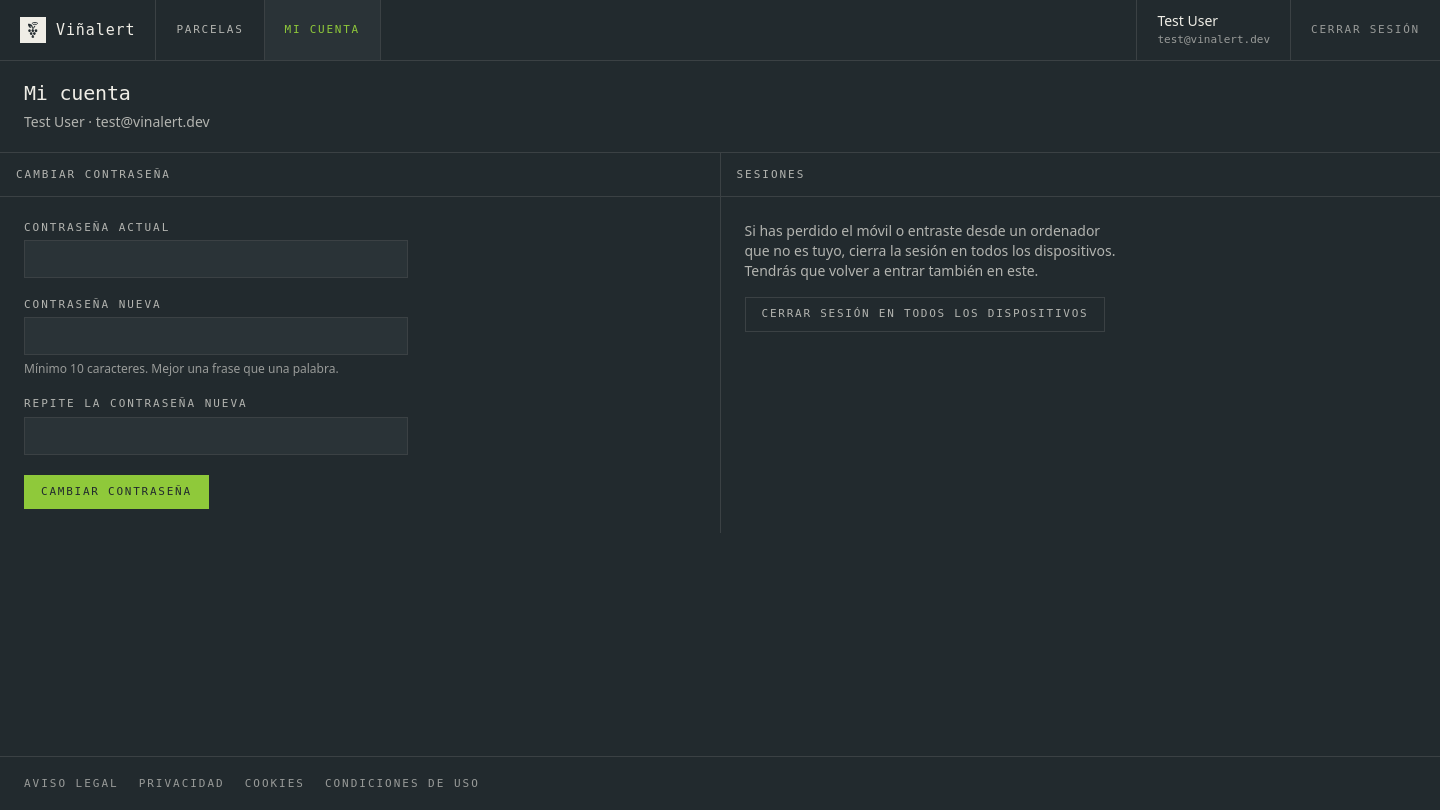
it: si las nuevas no coinciden no envia nada
This screenshot has width=1440, height=810.
Type "clave12345" into the password field labelled "Contraseña actual" at (216, 259), box [24, 240, 408, 278]
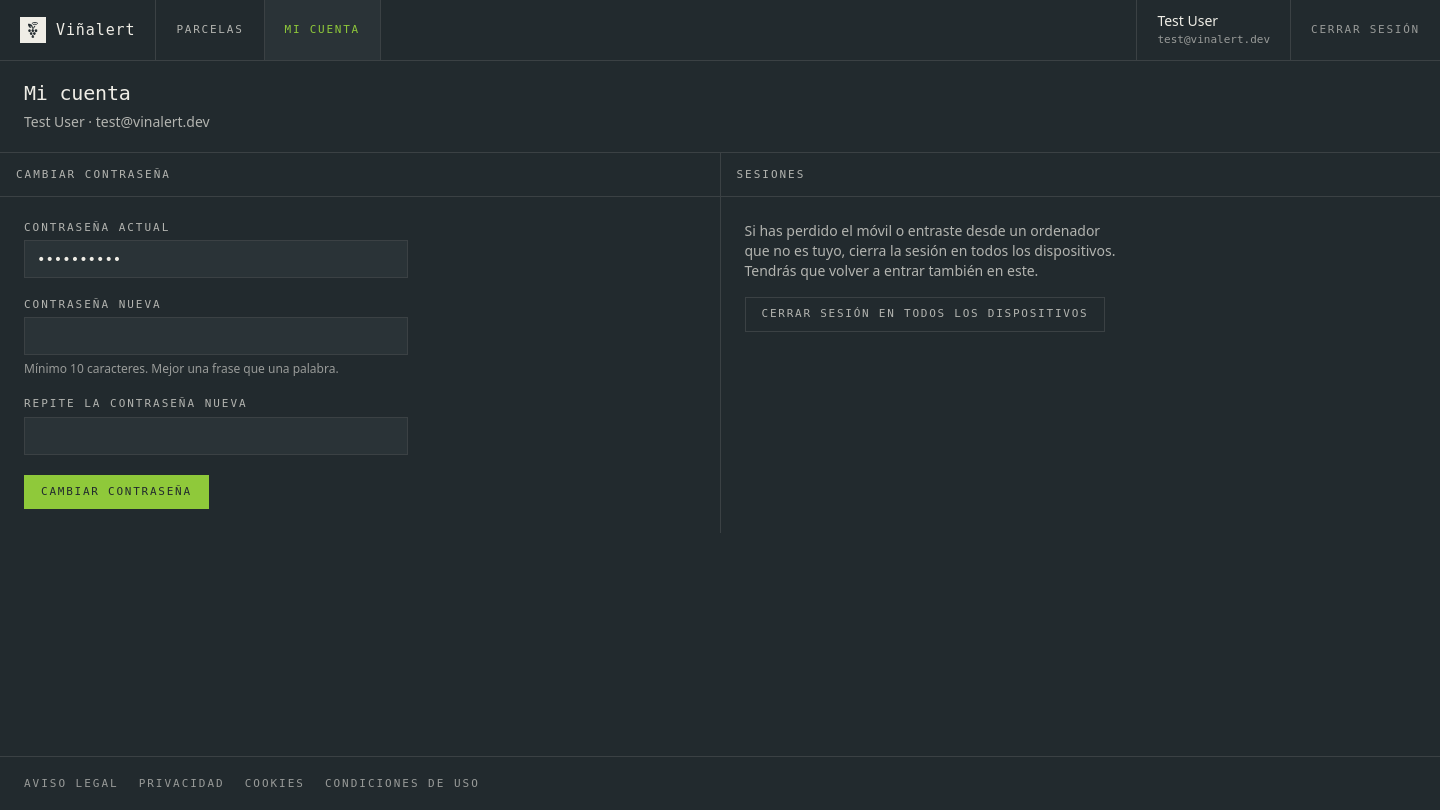
Type "cepas-de-albariño" into the password field labelled "Contraseña nueva" at (216, 336), box [24, 317, 408, 355]
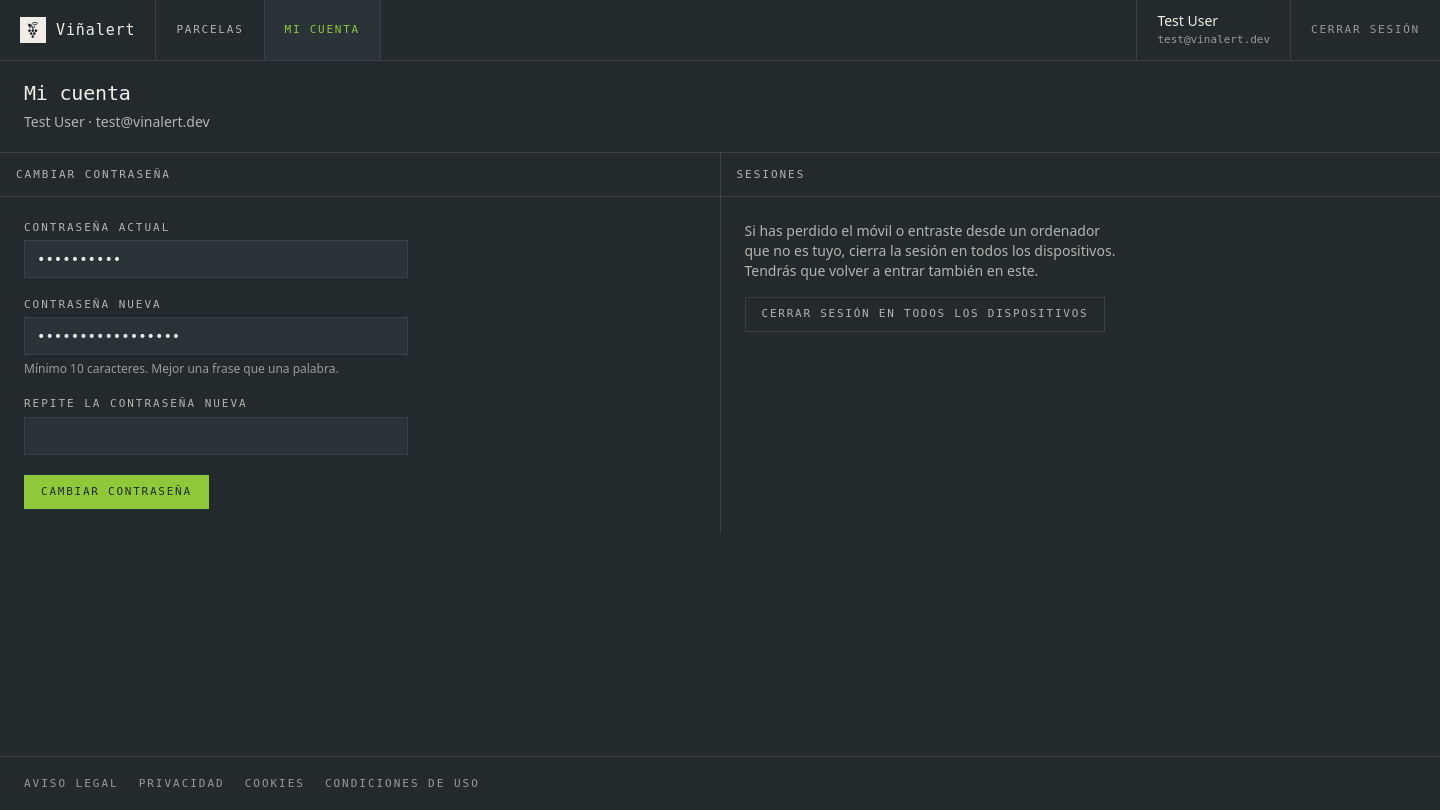
Type "otra-cosa-distinta" into the password field labelled "Repite la contraseña nueva" at (216, 436), box [24, 417, 408, 455]
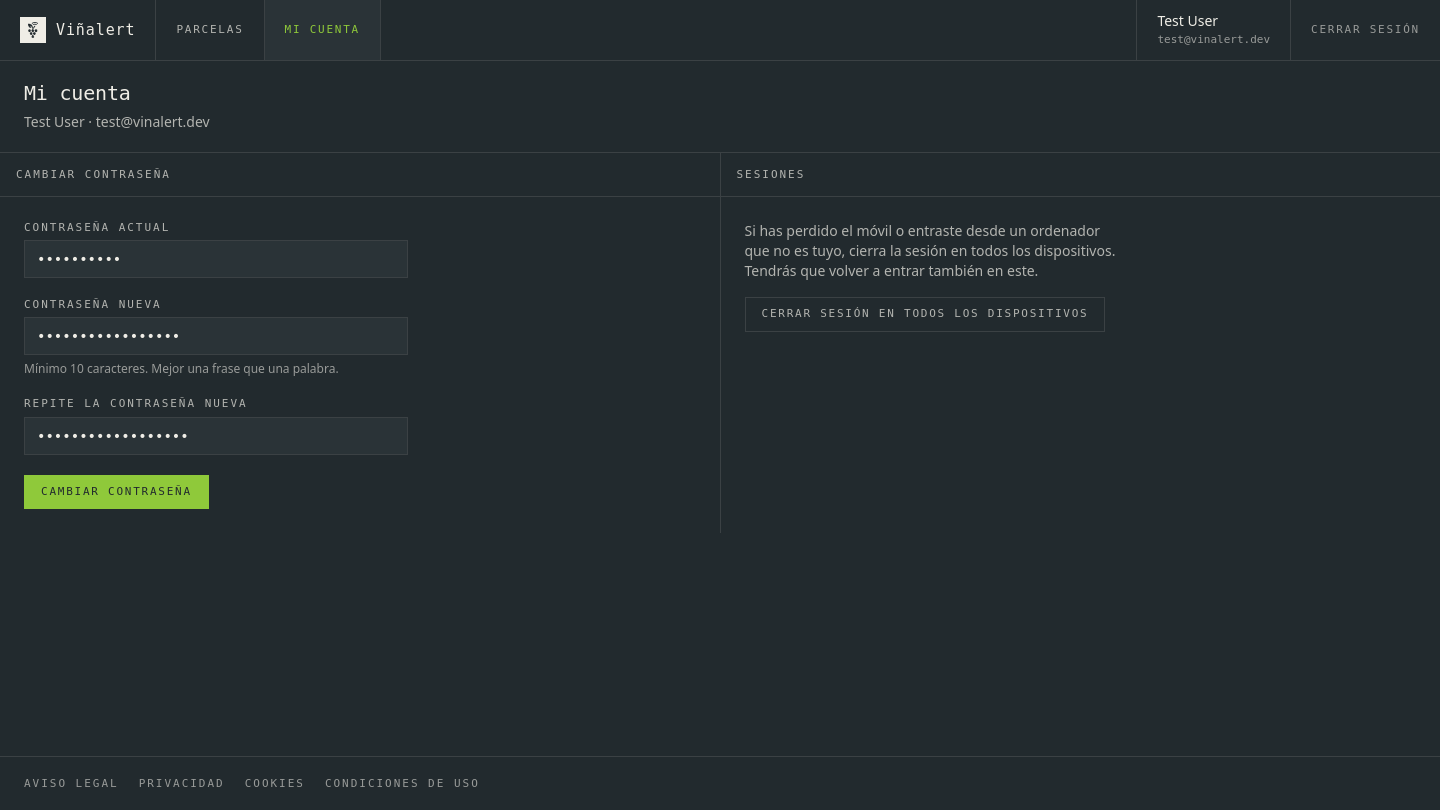
Click the button "Cambiar contraseña" at (116, 492), box [24, 475, 209, 509]
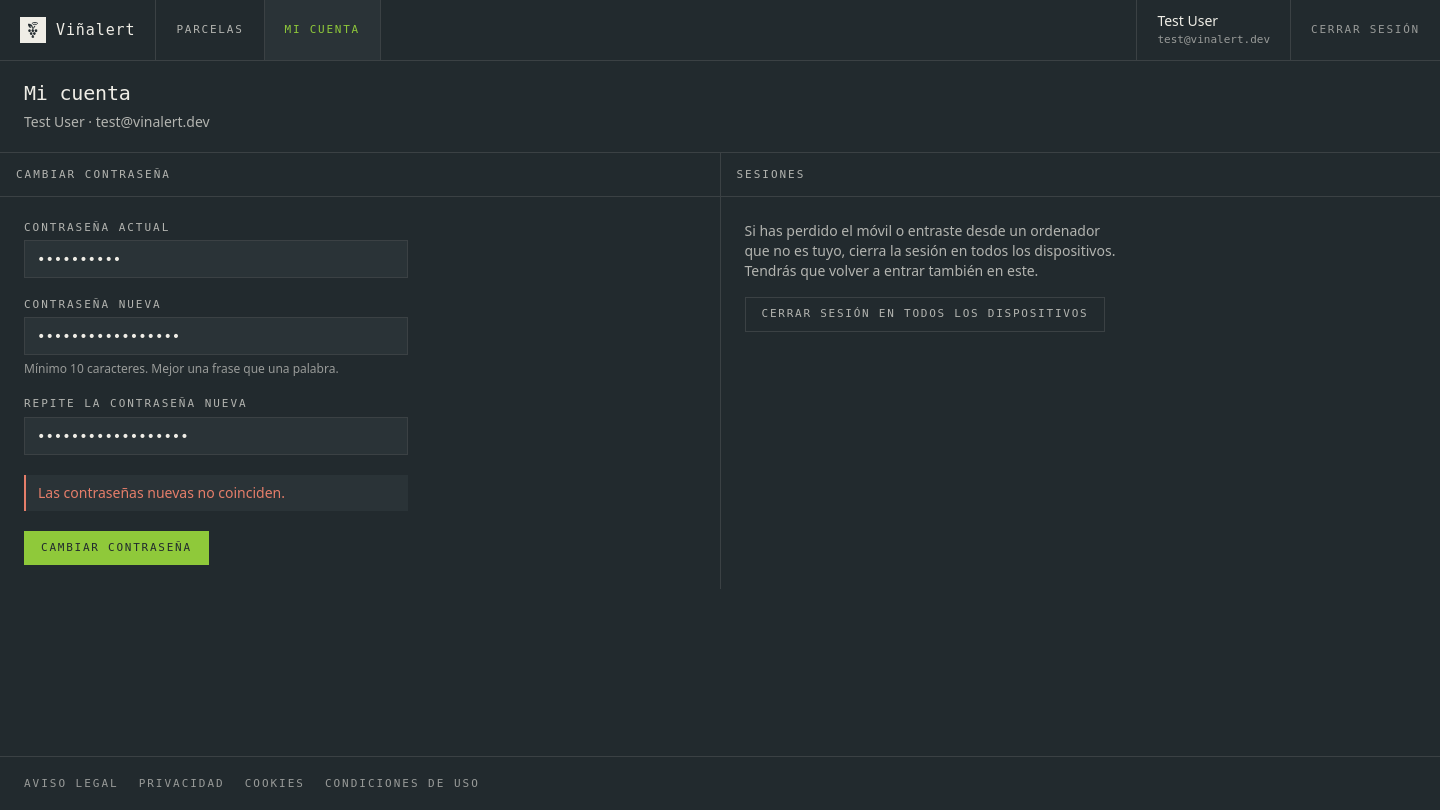
Result: the text "Las contraseñas nuevas no coinciden." is shown at [24, 475, 408, 511]
